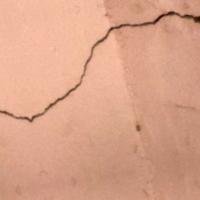crack: (0, 10, 199, 133)
